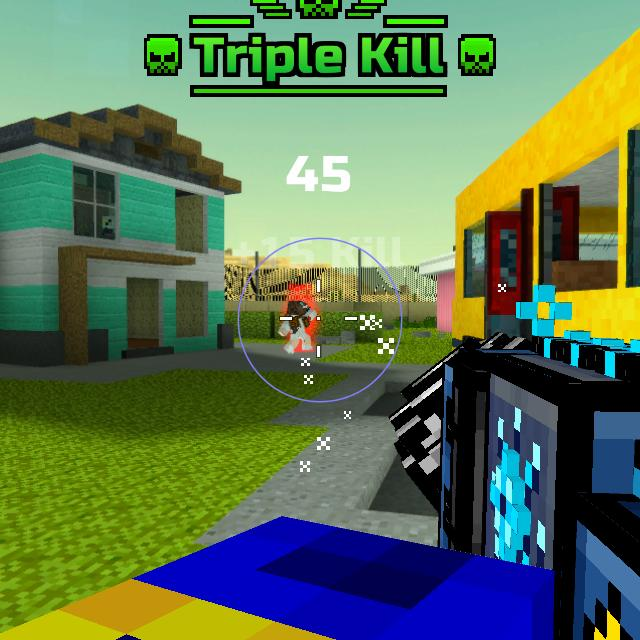Enemy: (277, 301, 317, 354)
